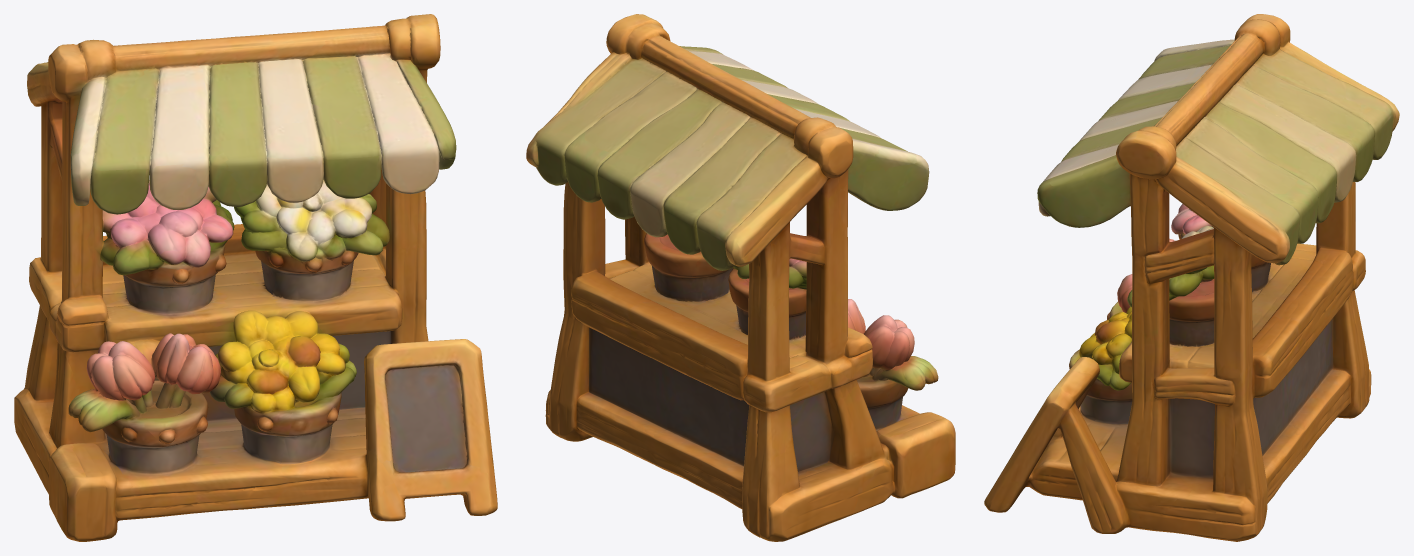
Rendered from sap-hoa.glb.
The picture shows the model from 3 angles, left to right: view 1: azimuth 30°, elevation 25°; view 2: azimuth 150°, elevation 25°; view 3: azimuth 270°, elevation 25°; orthographic projection. The views are drawn at different scales.
Bounding box in the file's own units: 0.2868 × 0.2934 × 0.2831.
1 material, 1 textured.
